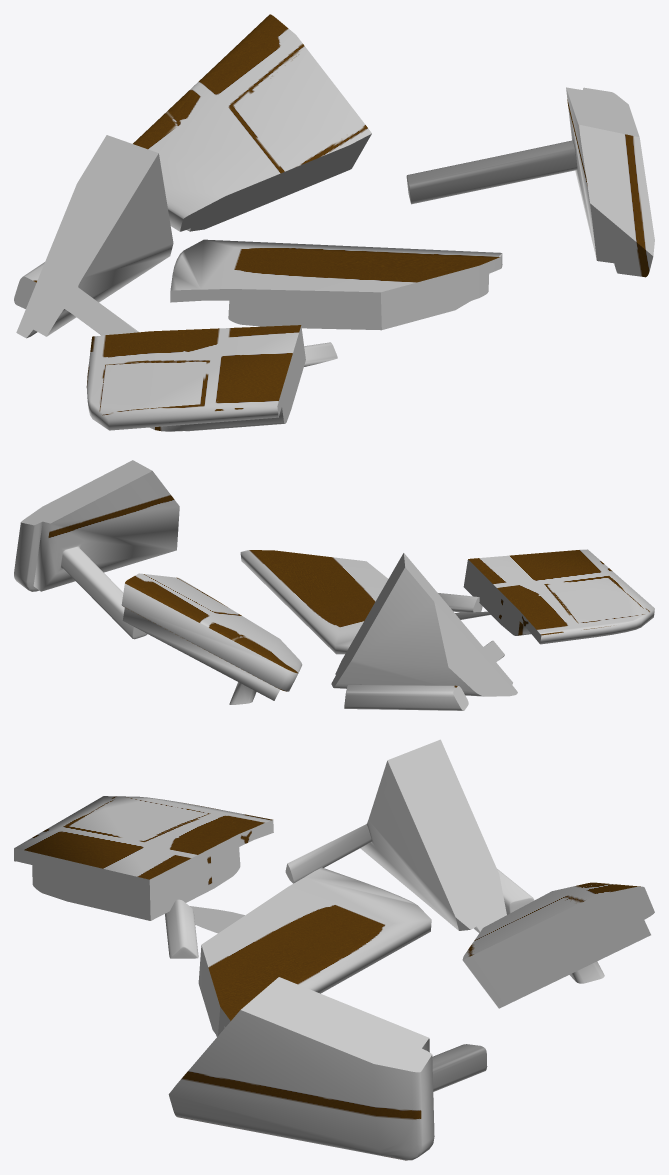
Rendered from BrokenChair.fbx.
3 views of the same model, one above another, from view 1: azimuth 30°, elevation 25°; view 2: azimuth 150°, elevation 25°; view 3: azimuth 270°, elevation 25° (orthographic). The views are drawn at different scales.
Visible parts, largest first — view 1: Cube.003_cell.003; view 2: Cube.003_cell.003; view 3: Cube.003_cell.003.
Part boxes in pixels (x1=…): Cube.003_cell.003: x1=14, y1=14, x2=654, y2=431; Cube.003_cell.003: x1=14, y1=460, x2=654, y2=710; Cube.003_cell.003: x1=14, y1=739, x2=654, y2=1160.
Size of the model in its own units: 449 by 101 by 355.
Materials: 1 (1 with a texture image).
